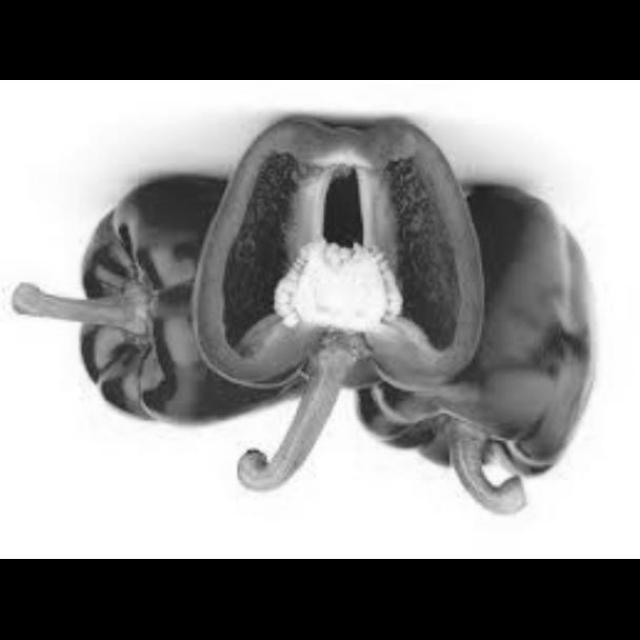bell pepper: (186, 105, 488, 457), (351, 178, 601, 487), (54, 172, 291, 436)
